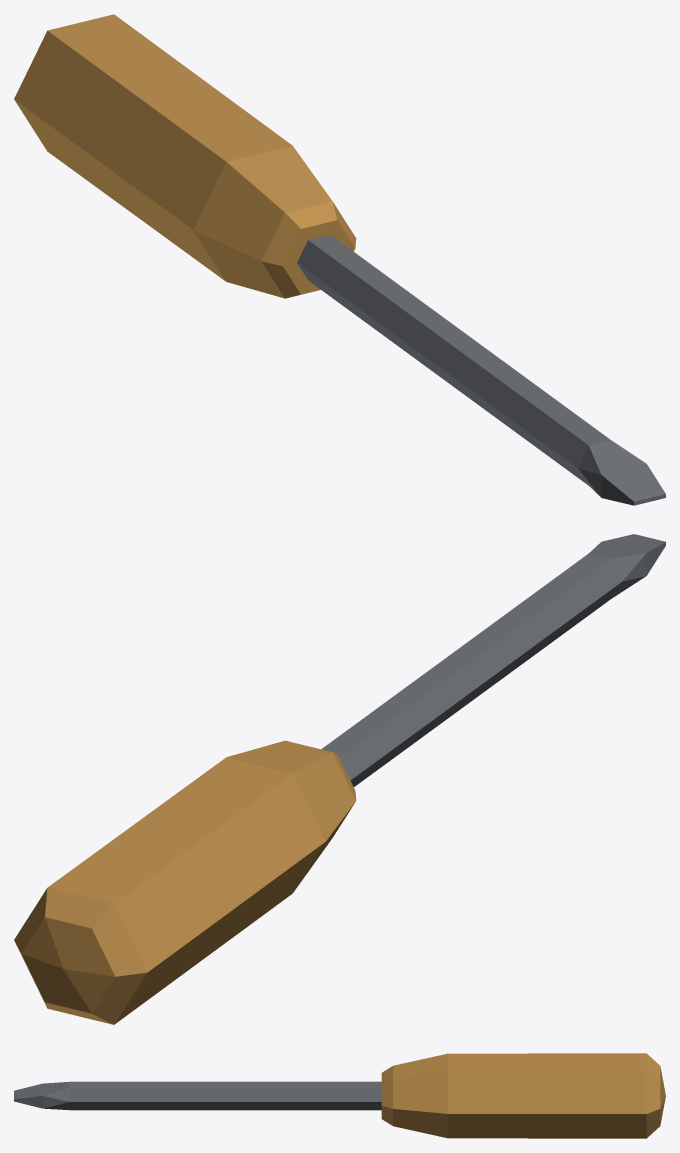
Rendered from SM_Item_Screw_Driver_01.obj.
3 views of the same model, one above another, from view 1: azimuth 30°, elevation 25°; view 2: azimuth 150°, elevation 25°; view 3: azimuth 270°, elevation 25° (orthographic). The views are drawn at different scales.
Visible parts, largest first — view 1: SM_Item_Screw_Driver_01_0; view 2: SM_Item_Screw_Driver_01_0; view 3: SM_Item_Screw_Driver_01_0.
Part boxes in pixels (x1=…): SM_Item_Screw_Driver_01_0: x1=14, y1=14, x2=665, y2=505; SM_Item_Screw_Driver_01_0: x1=14, y1=534, x2=665, y2=1024; SM_Item_Screw_Driver_01_0: x1=14, y1=1053, x2=665, y2=1138.
Size of the model in its own units: 0.0516 by 0.0447 by 0.3931.
1 material, 1 textured.
